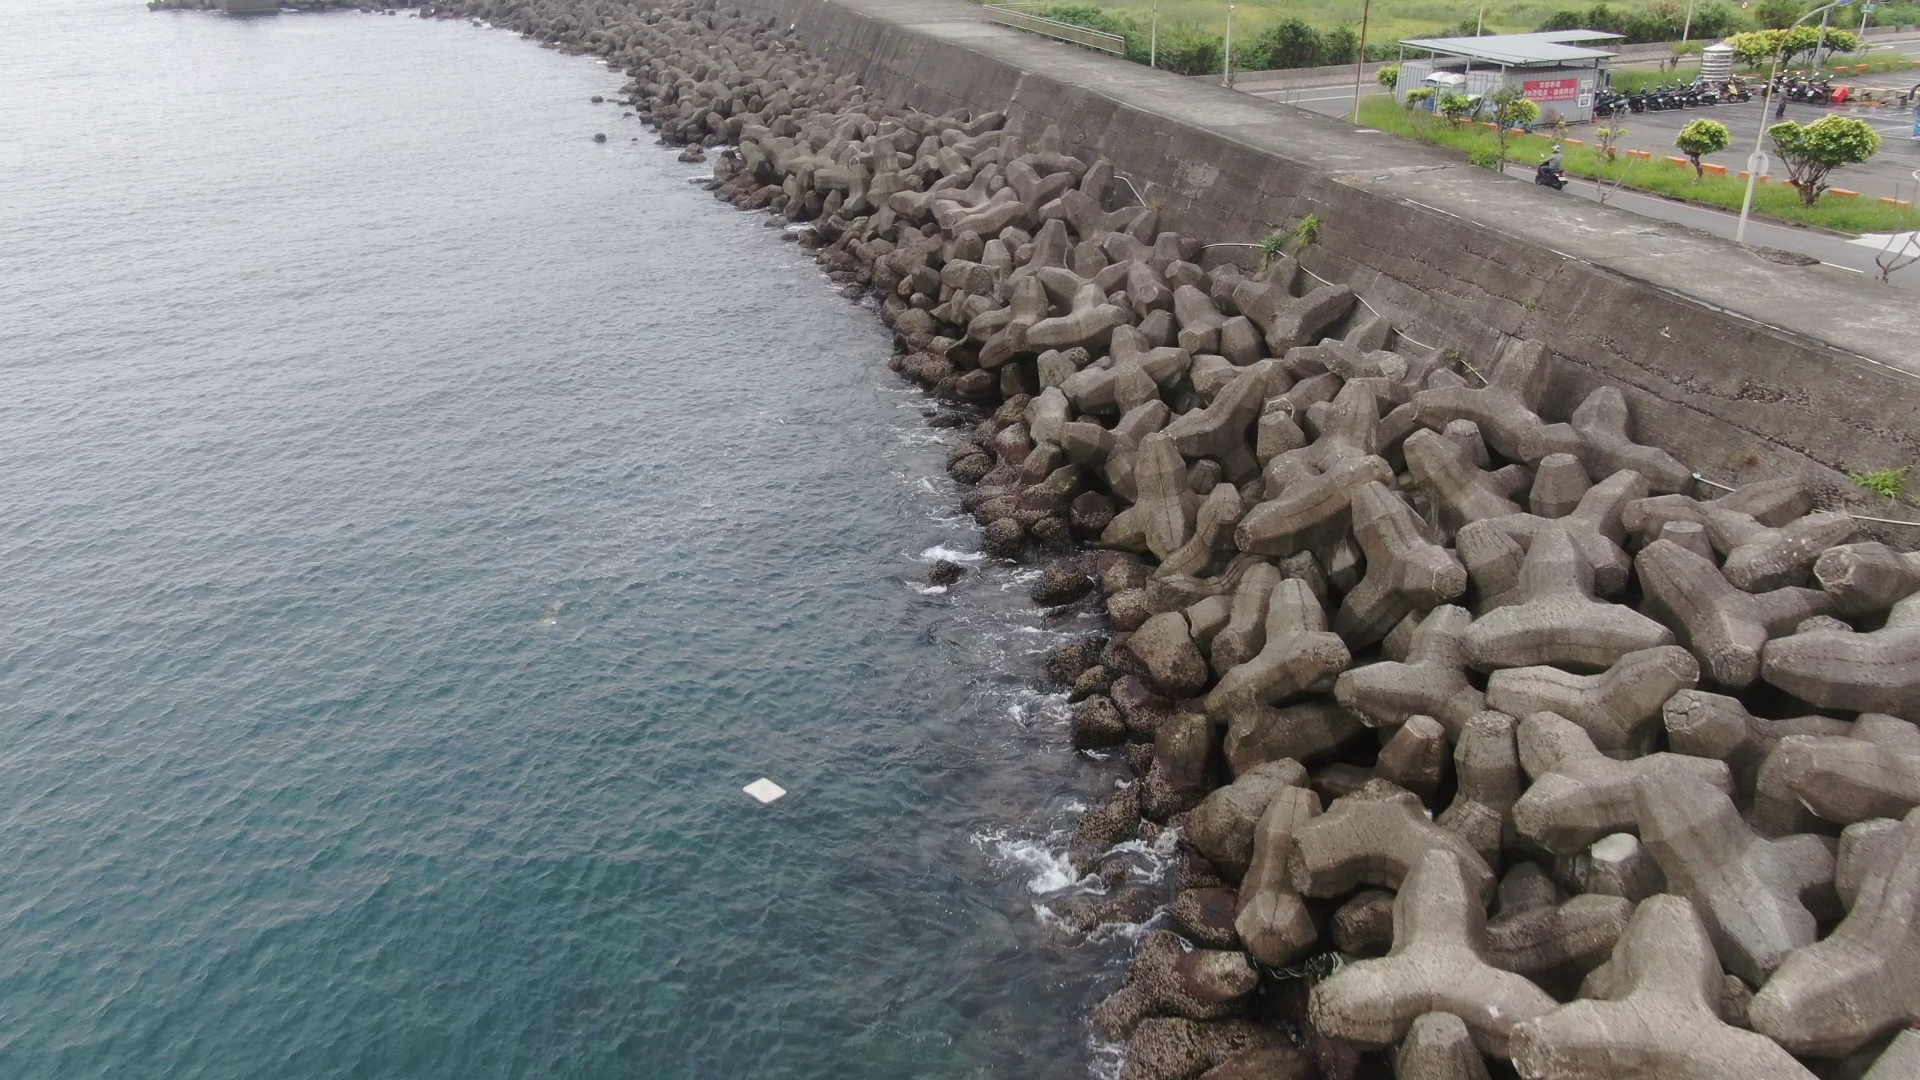garbage: (741, 767, 795, 814)
